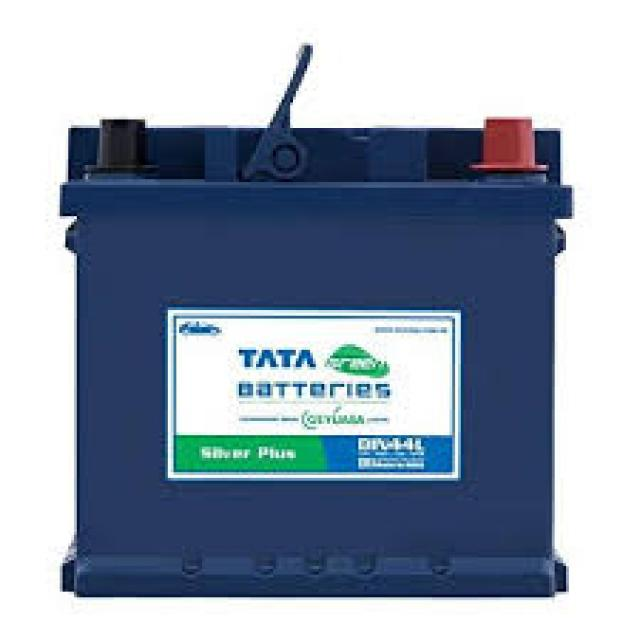non-organic waste: (62, 106, 569, 604)
